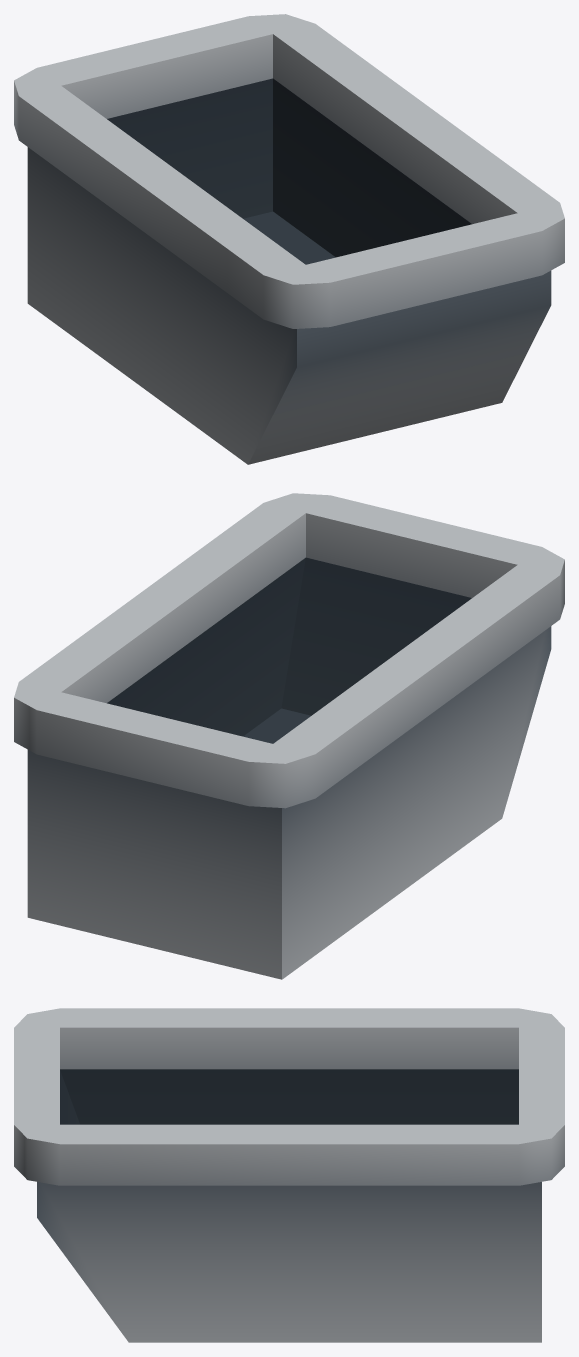
The model's file is skip.glb.
3 views of the same model, one above another, from view 1: azimuth 30°, elevation 25°; view 2: azimuth 150°, elevation 25°; view 3: azimuth 270°, elevation 25° (orthographic). The views are drawn at different scales.
Visible parts, largest first — view 1: skip; view 2: skip; view 3: skip.
Part boxes in pixels (x1,y1,x2,y2): skip: [14, 14, 564, 464]; skip: [14, 493, 564, 979]; skip: [14, 1008, 564, 1342].
Size of the model in its own units: 0.7 by 0.5 by 1.2.
